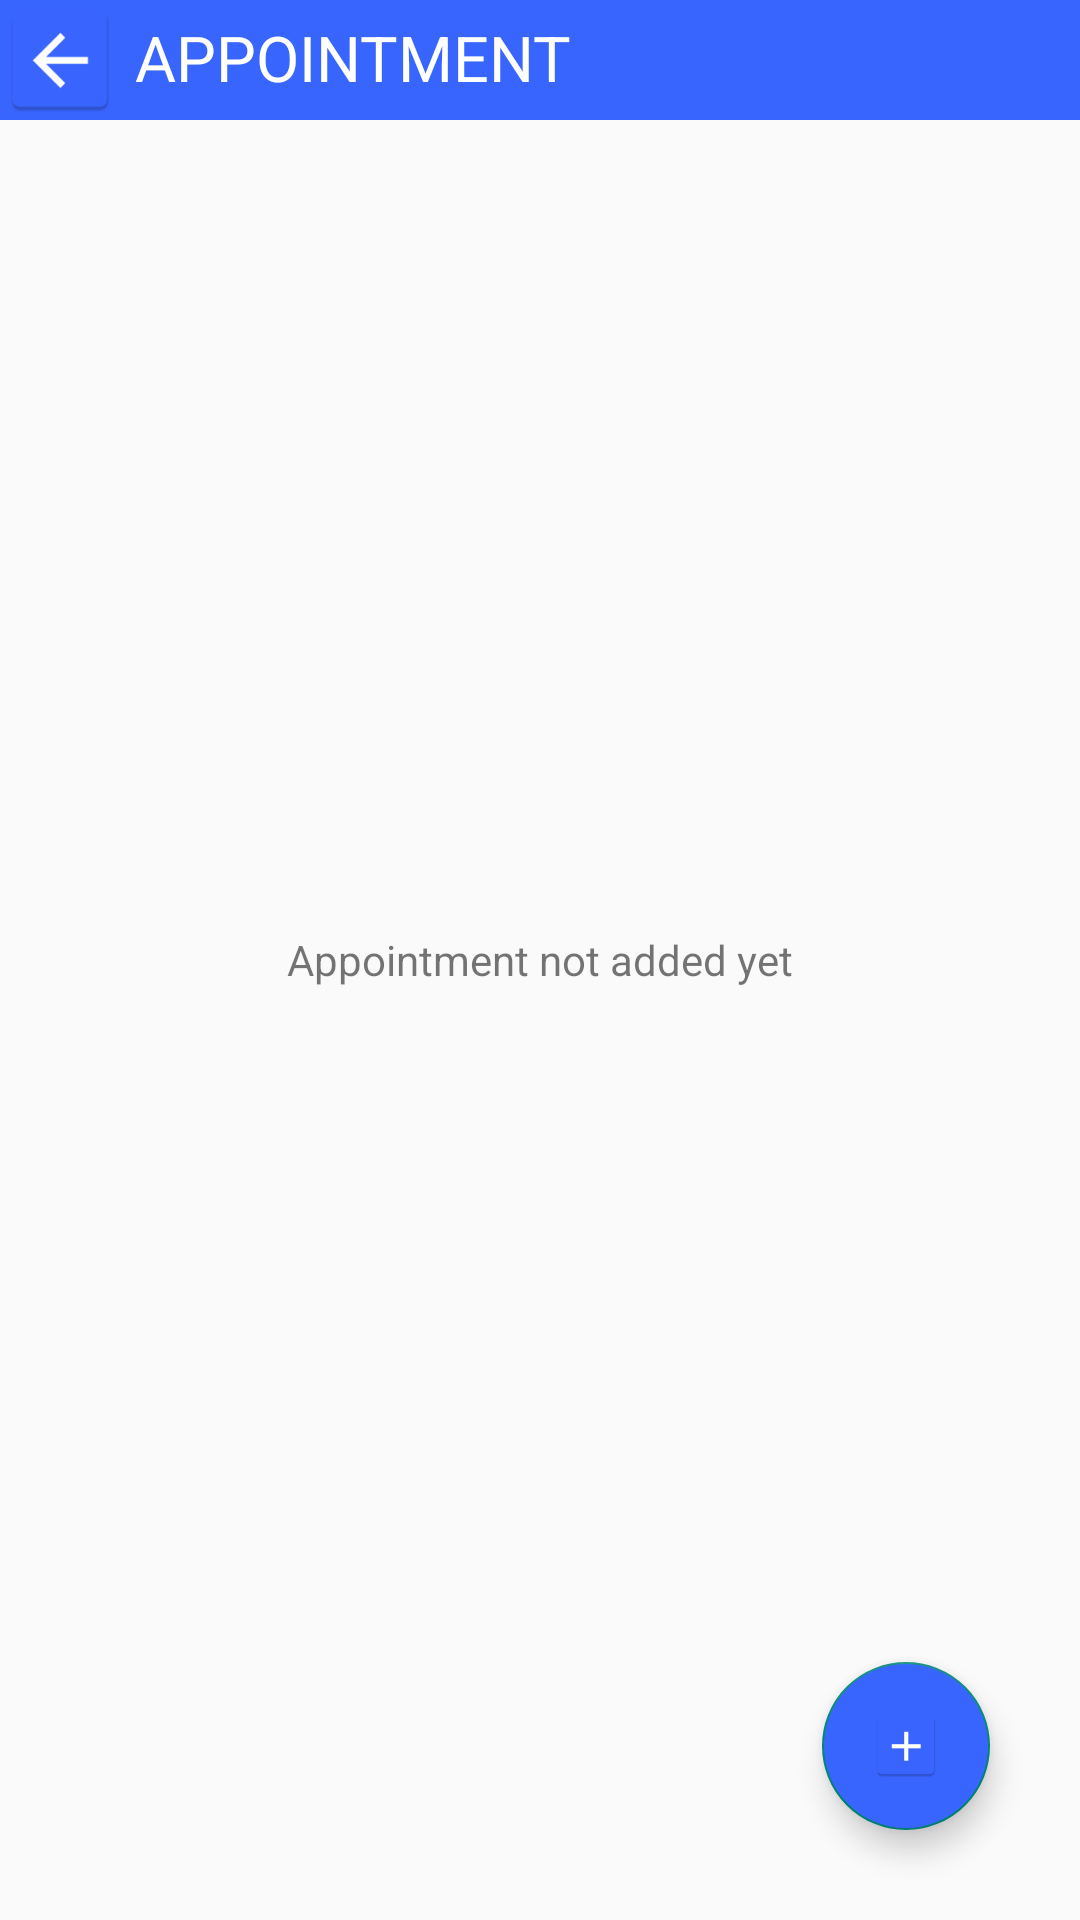

Where icons sit on this 1080×1920 app screen, as box(x1, y1, x2, y2):
add: box(822, 1662, 990, 1830)
back: box(13, 20, 108, 111)
